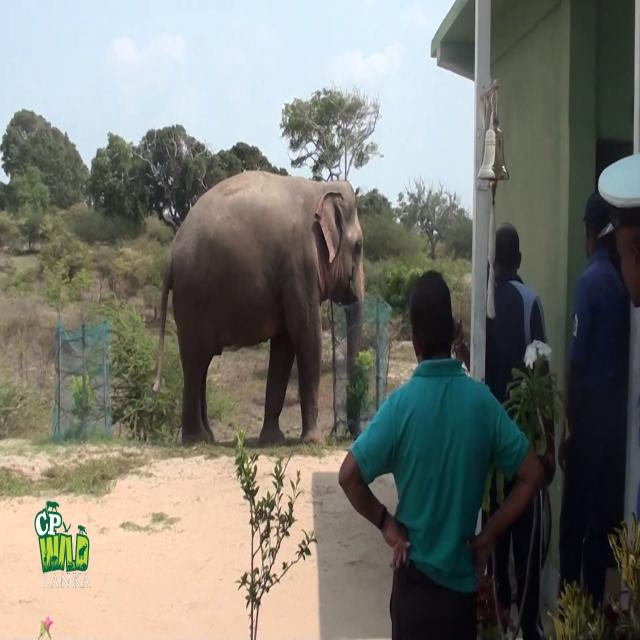Elephant: (152, 169, 365, 447)
person: (338, 268, 546, 639), (558, 190, 630, 626)
